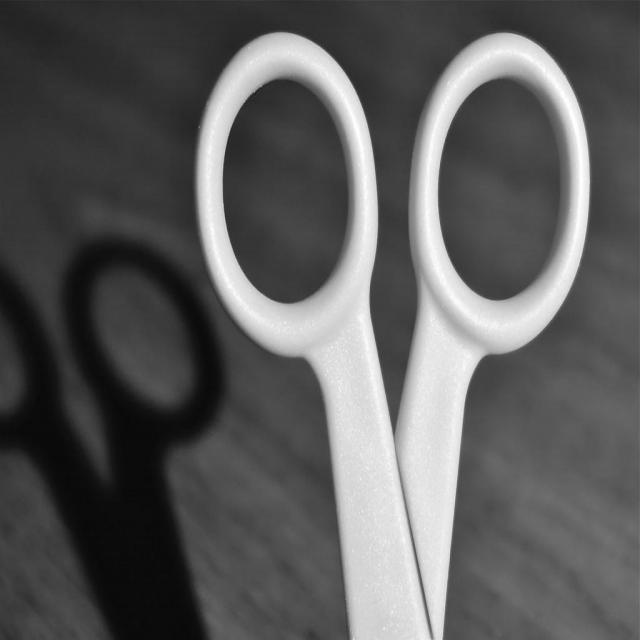scissor: (190, 27, 588, 639)
